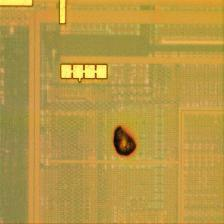PARTICLE: (109, 123, 140, 162)
